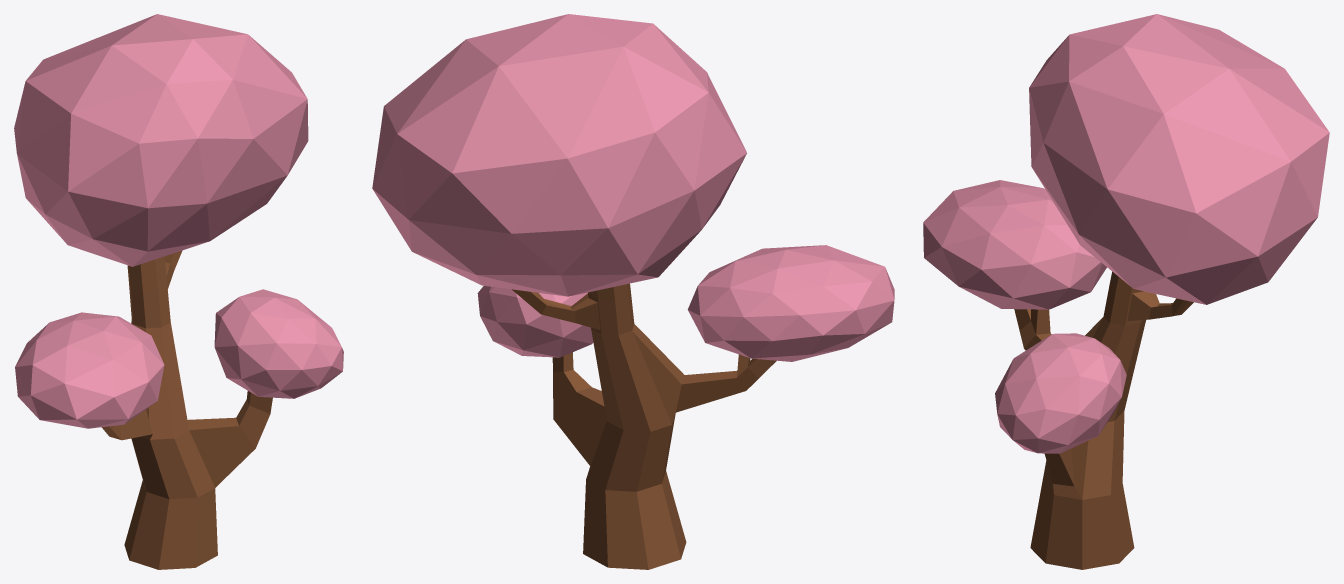
Rendered from CherryTree.fbx.
3 renders of one model, left to right at view 1: azimuth 30°, elevation 25°; view 2: azimuth 150°, elevation 25°; view 3: azimuth 270°, elevation 25°, orthographic. The views are drawn at different scales.
Parts seen in each view (by area): view 1: TreeTop01.002, TreeTrunk01, TreeTop01, TreeTop01.001; view 2: TreeTop01.002, TreeTrunk01, TreeTop01, TreeTop01.001; view 3: TreeTop01.002, TreeTrunk01, TreeTop01, TreeTop01.001.
Part boxes in pixels (x1,y1,x2,y2): TreeTop01.002: [14, 14, 308, 266]; TreeTrunk01: [102, 250, 272, 569]; TreeTop01: [15, 312, 164, 428]; TreeTop01.001: [214, 289, 343, 398]; TreeTop01.002: [372, 14, 746, 296]; TreeTrunk01: [512, 283, 776, 569]; TreeTop01: [687, 245, 894, 361]; TreeTop01.001: [477, 286, 593, 357]; TreeTop01.002: [1029, 14, 1329, 304]; TreeTrunk01: [1014, 271, 1193, 569]; TreeTop01: [923, 180, 1106, 309]; TreeTop01.001: [995, 333, 1126, 453].
Bounding box in the file's own units: 296 × 379 × 267.
